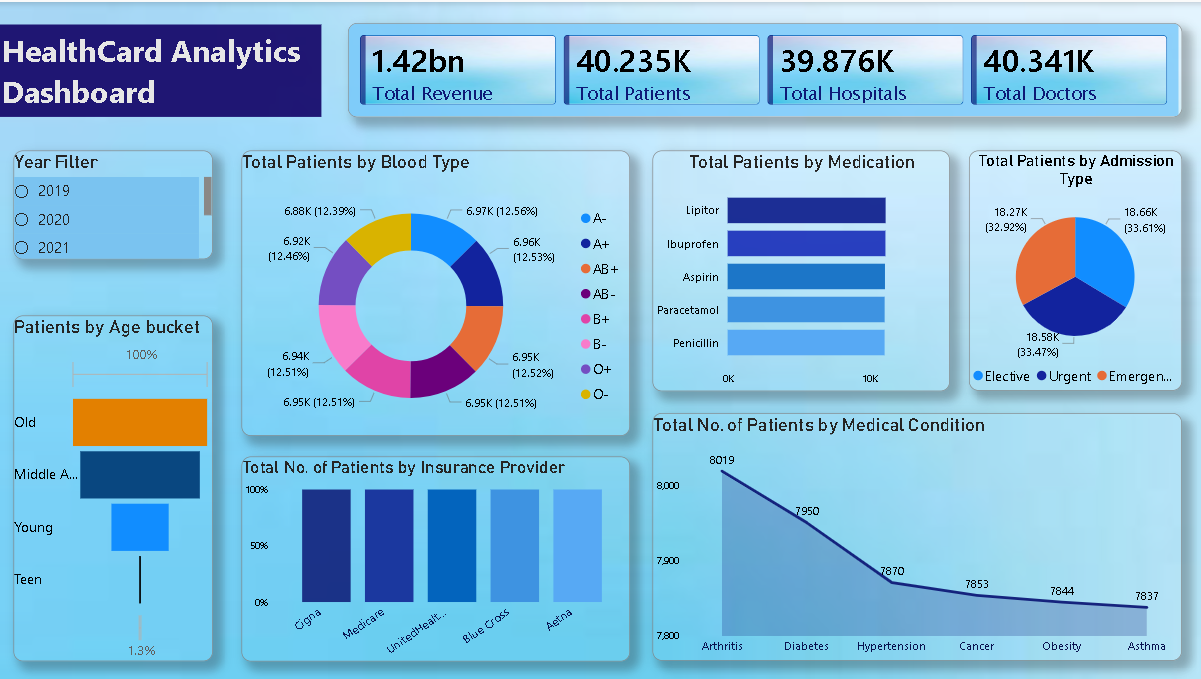

Layout of this report page (visuals, bound fields, positions):
{"tool":"powerbi","page":{"name":"DASHBOARD","canvas":[1280,720],"ordinal":0},"visuals":[{"type":"donutChart","title":"Total Patients by Blood Type","fields":{"Category":["healthcare_dataset.Blood Type"],"Y":["CountNonNull(healthcare_dataset.Name)"]},"box":[258.9,156.9,412,302.4],"z":0},{"type":"stackedAreaChart","fields":{"Category":["healthcare_dataset.Medical Condition"],"Y":["Count(healthcare_dataset.Name)"]},"box":[695.1,435.8,561.5,262.5],"z":1000},{"type":"hundredPercentStackedColumnChart","fields":{"Category":["healthcare_dataset.Insurance Provider"],"Y":["CountNonNull(healthcare_dataset.Insurance Provider)"]},"box":[258.9,481.9,412,217.3],"z":2000},{"type":"clusteredBarChart","fields":{"Category":["healthcare_dataset.Medication"],"Y":["CountNonNull(healthcare_dataset.Name)"]},"box":[695.4,156.9,315.6,255.1],"z":3000},{"type":"pieChart","fields":{"Category":["healthcare_dataset.Admission Type","healthcare_dataset.Gender"],"Y":["CountNonNull(healthcare_dataset.Name)"]},"box":[1030.7,157.5,225.9,254.5],"z":4000},{"type":"cardVisual","fields":{"Data":["Sum(healthcare_dataset.Billing Amount)","Count(healthcare_dataset.Name)","Count(healthcare_dataset.Hospital)","Count(healthcare_dataset.Doctor)"]},"box":[372.3,22.7,884.4,100.2],"z":5000},{"type":"textbox","box":[0,24.6,343.9,98.3],"z":6000},{"type":"funnel","fields":{"Category":["healthcare_dataset.Age bucket"],"Y":["Sum(healthcare_dataset.Age)"]},"box":[17,332.6,211.7,366.6],"z":7000},{"type":"listSlicer","fields":{"Values":["healthcare_dataset.Year"]},"box":[17,156.9,211.7,115.3],"z":8000}]}

Visuals, with their boxes in screenshot pixels (x1, y1, x2, y2), scaled from the page's 1280x720 canvas onto the 1201x679 screenshot:
"Total Patients by Blood Type" donutChart: crop(243, 148, 629, 433)
stackedAreaChart - healthcare_dataset.Medical Condition x Count(healthcare_dataset.Name): crop(652, 411, 1179, 659)
hundredPercentStackedColumnChart - healthcare_dataset.Insurance Provider x CountNonNull(healthcare_dataset.Insurance Provider): crop(243, 454, 629, 659)
clusteredBarChart - healthcare_dataset.Medication x CountNonNull(healthcare_dataset.Name): crop(652, 148, 949, 389)
pieChart - healthcare_dataset.Admission Type x healthcare_dataset.Gender: crop(967, 149, 1179, 389)
cardVisual - Sum(healthcare_dataset.Billing Amount) x Count(healthcare_dataset.Name): crop(349, 21, 1179, 116)
textbox: crop(0, 23, 323, 116)
funnel - healthcare_dataset.Age bucket x Sum(healthcare_dataset.Age): crop(16, 314, 215, 659)
listSlicer - healthcare_dataset.Year: crop(16, 148, 215, 257)
